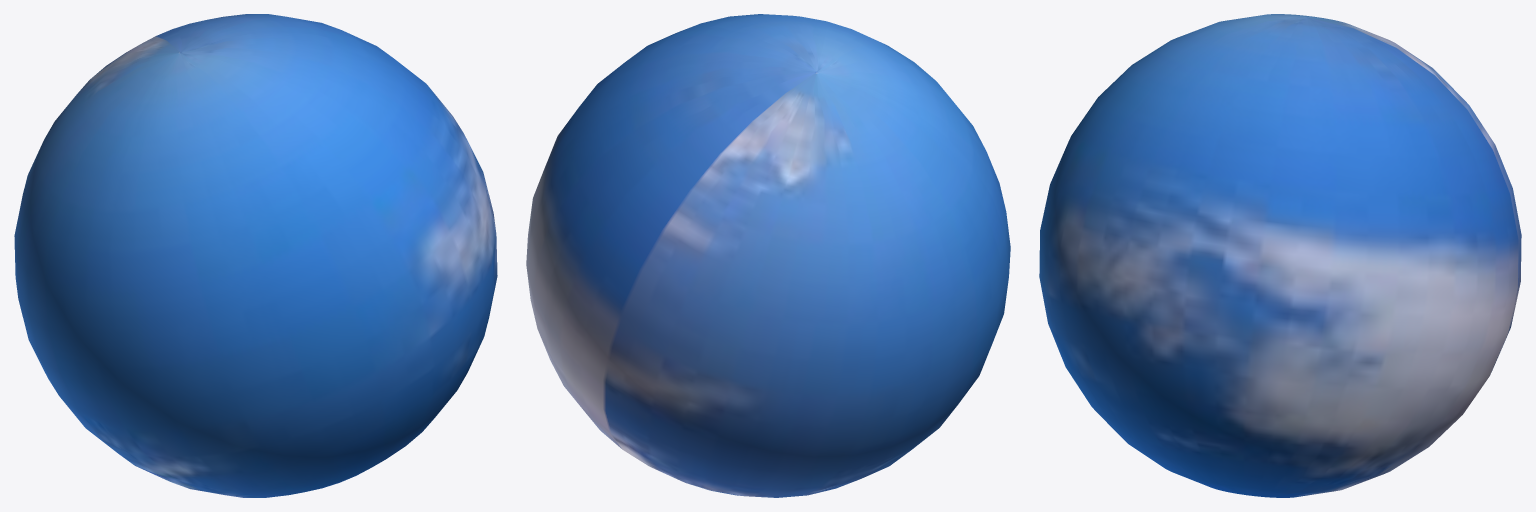
The model's file is skydome.FBX.
The picture shows the model from 3 angles, left to right: view 1: azimuth 30°, elevation 25°; view 2: azimuth 150°, elevation 25°; view 3: azimuth 270°, elevation 25°; orthographic projection.
Visible parts, largest first — view 1: Sphere003; view 2: Sphere003; view 3: Sphere003.
Part boxes in pixels (x1,y1,x2,y2): Sphere003: [14, 14, 497, 497]; Sphere003: [526, 14, 1010, 497]; Sphere003: [1039, 14, 1521, 497].
Size of the model in its own units: 1621 by 1621 by 1624.
